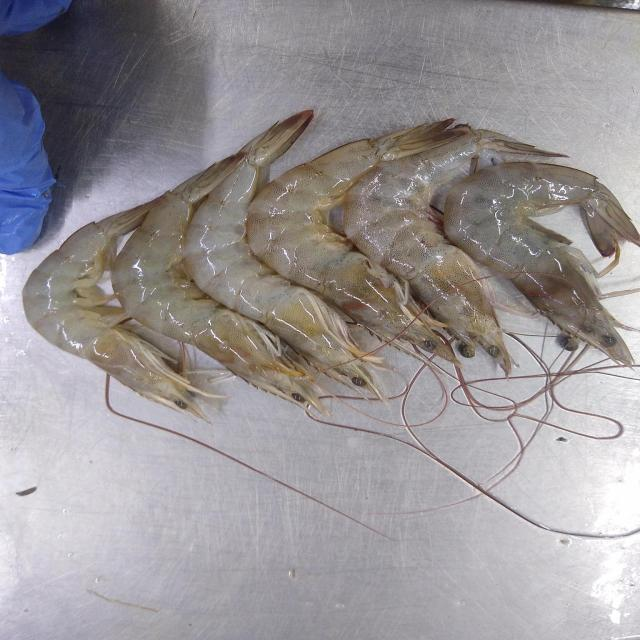shrimp: (111, 153, 328, 415), (183, 110, 381, 397), (245, 119, 466, 364), (343, 127, 536, 375), (21, 200, 219, 421), (444, 162, 638, 366)
